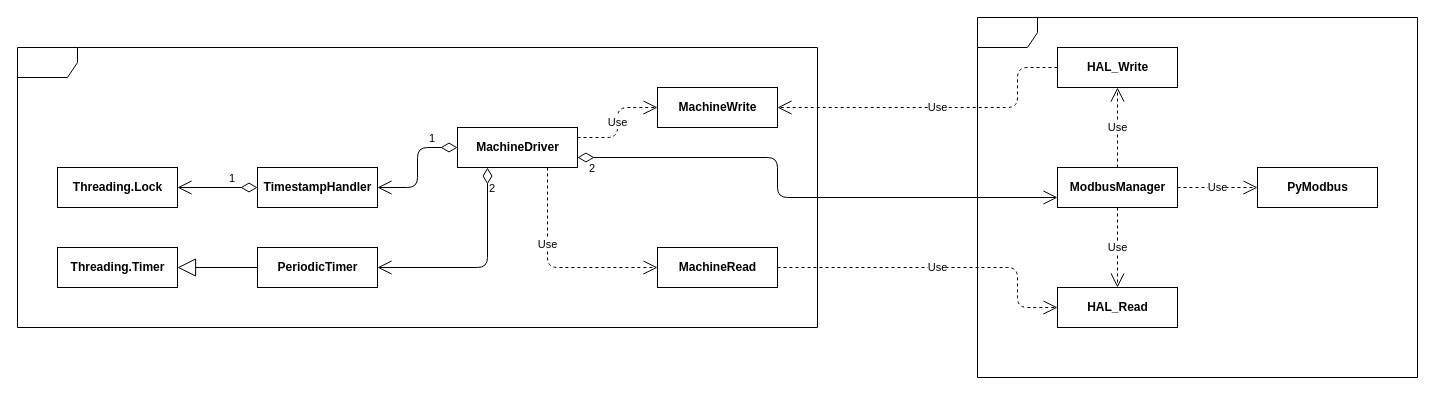
Image size: 1435x395. Some labels were removed from this diagram. Here are the shapes that lost their labels. From the top down, the centre of each, then its label:
pixel 417 187: Machine
pixel 1197 197: HAL
